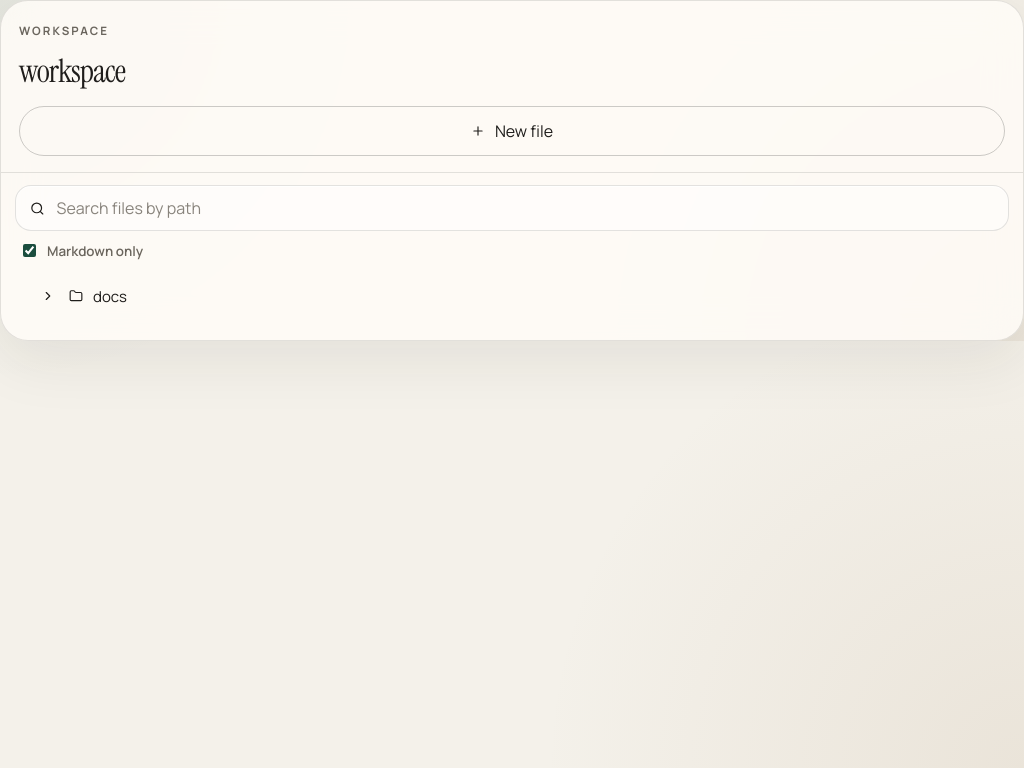
Test case: Sidebar › restricts search results to markdown files only by default
In the search field labelled "Search files": {"x": 524, "y": 208} [55, 196, 994, 220], type "dgs"
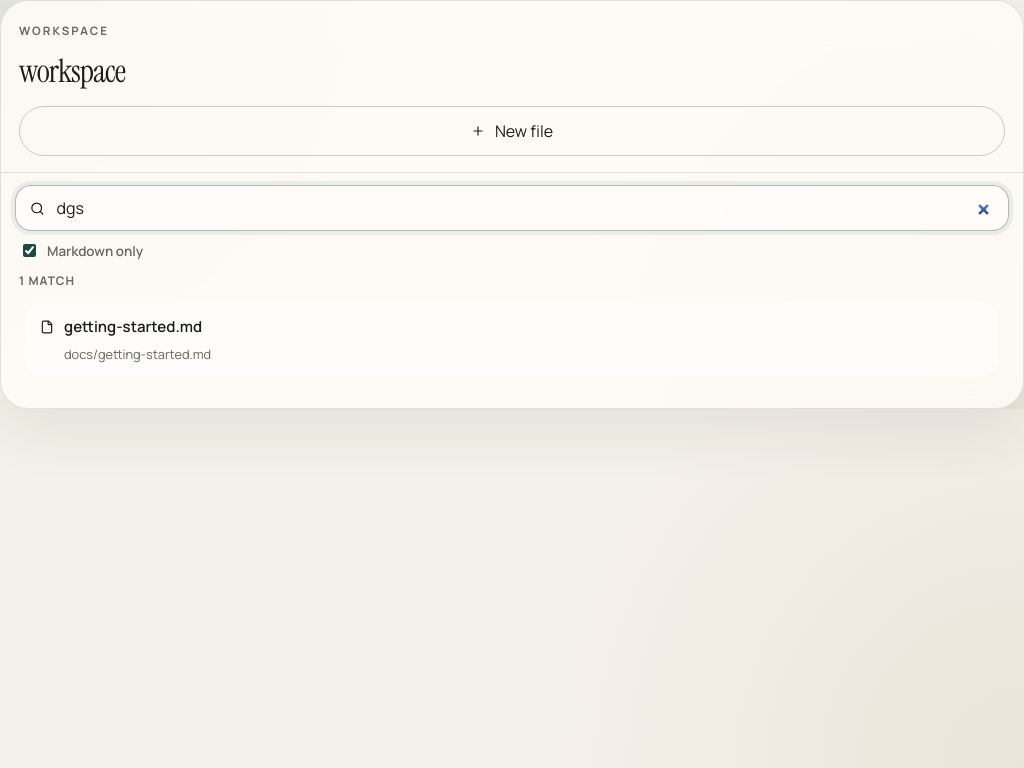
Expected: the text "docs/getting-started.txt" is not shown
Expected: the text "docs/getting-started.md" is shown, [64, 345, 211, 363]
Note: Now uncheck it
Click the checkbox labelled "Markdown only": {"x": 30, "y": 250} [23, 244, 36, 257]
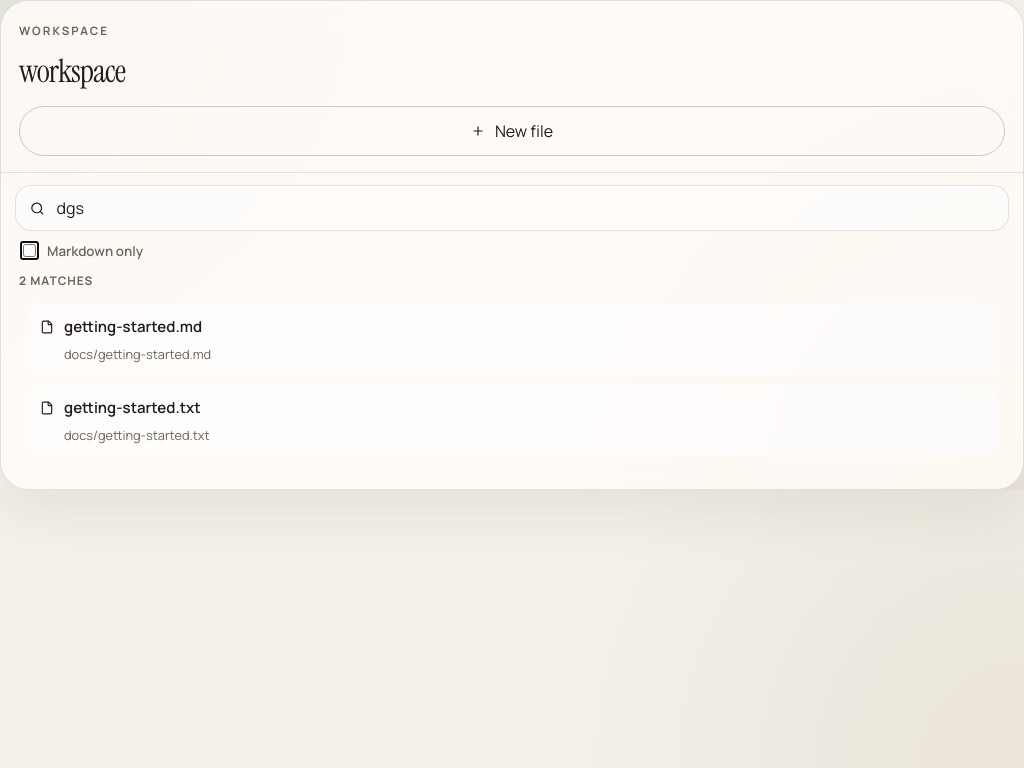
Expected: the text "docs/getting-started.txt" is shown, [64, 426, 210, 444]
